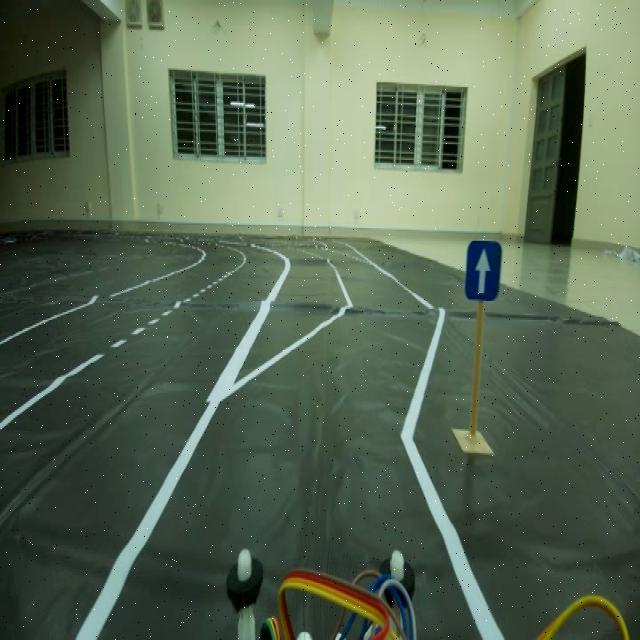onewayroad: (459, 224, 510, 316)
